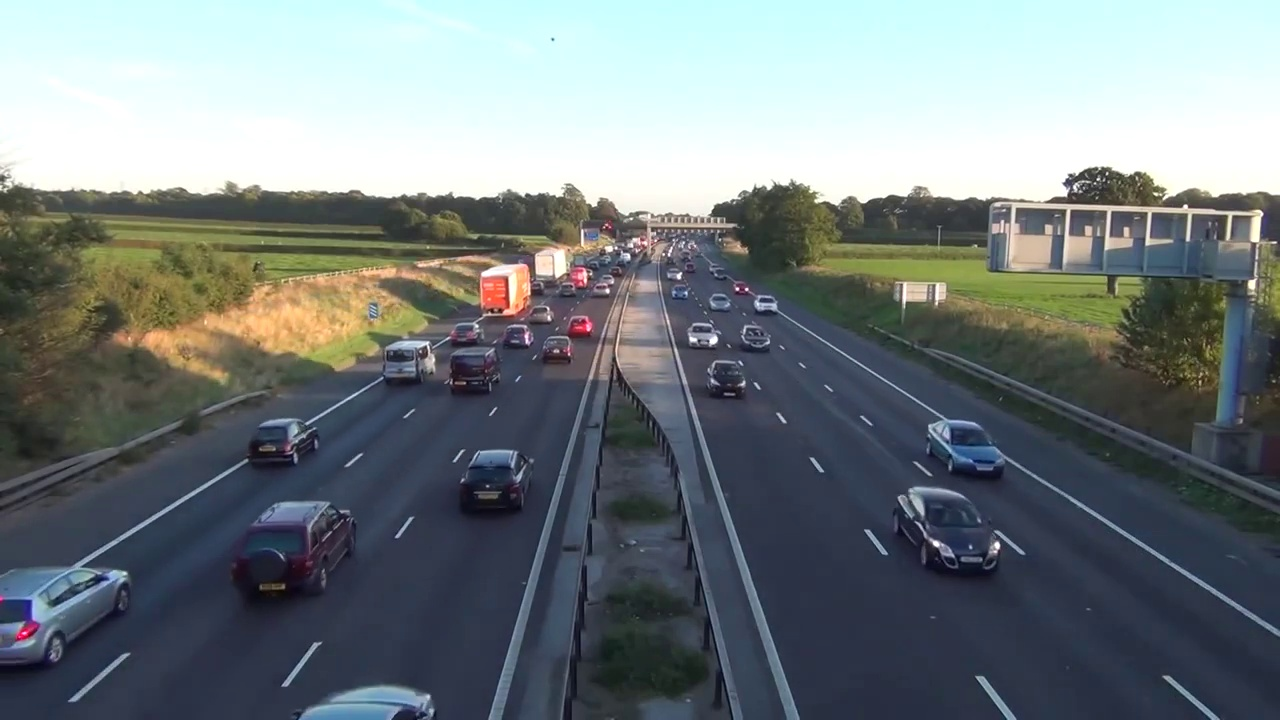bus: (2, 553, 137, 673), (230, 502, 355, 605), (892, 488, 1004, 577), (283, 676, 444, 716), (459, 445, 535, 522), (921, 418, 1006, 479), (245, 415, 320, 470), (703, 358, 748, 397), (542, 334, 576, 366), (739, 320, 770, 353), (684, 320, 719, 348), (450, 322, 485, 346), (502, 324, 537, 346), (566, 315, 595, 336), (528, 305, 555, 326), (753, 295, 779, 315), (709, 293, 730, 312), (558, 280, 579, 299), (671, 284, 689, 302), (591, 283, 612, 297), (732, 281, 750, 297), (530, 279, 545, 296), (666, 268, 684, 280), (600, 273, 616, 286), (714, 267, 728, 281), (707, 263, 721, 275), (565, 259, 574, 275), (584, 268, 595, 281), (608, 266, 622, 276), (684, 263, 696, 274), (588, 261, 601, 270)
car: (479, 262, 531, 319), (535, 249, 568, 286), (574, 254, 586, 268)
lorry: (448, 347, 502, 398), (382, 339, 439, 384), (569, 267, 586, 289)
